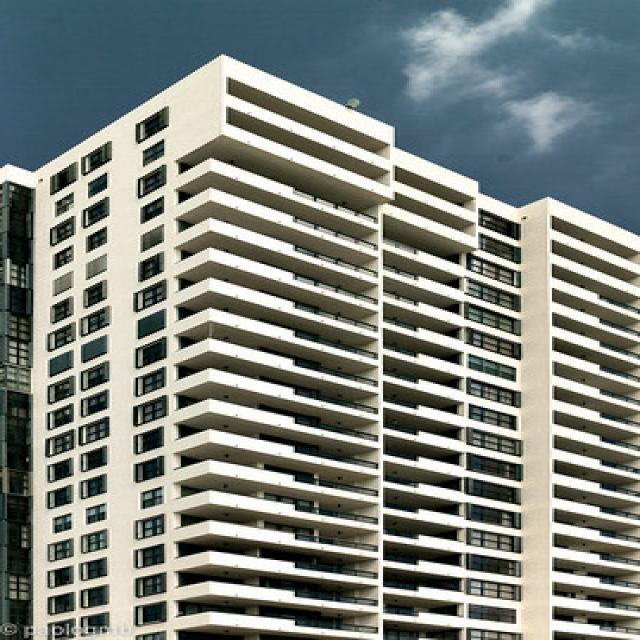Normal_building: (7, 53, 640, 640)
